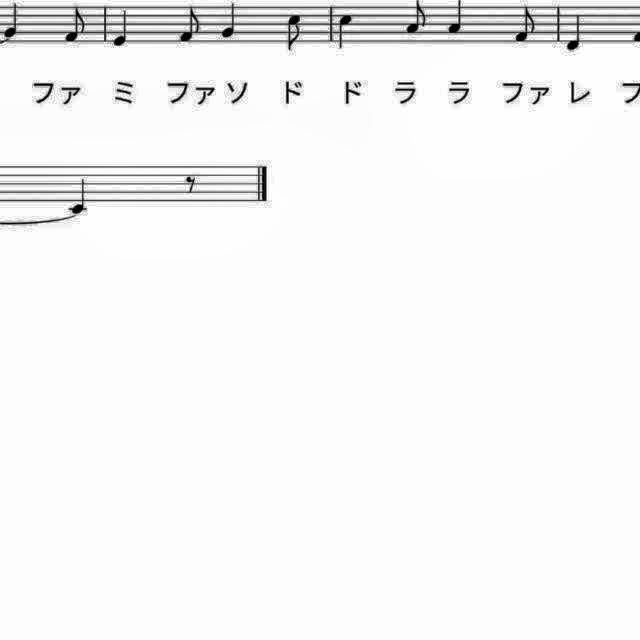Eighth-note: (174, 2, 206, 48), (60, 2, 92, 48), (511, 2, 542, 48), (282, 9, 308, 55), (402, 1, 432, 40)
Eighth-rest: (179, 170, 201, 197)
Quarter-note: (108, 4, 136, 52), (560, 9, 588, 55), (66, 176, 94, 218), (334, 10, 360, 54), (218, 1, 244, 44), (442, 1, 470, 40), (0, 0, 26, 40)
